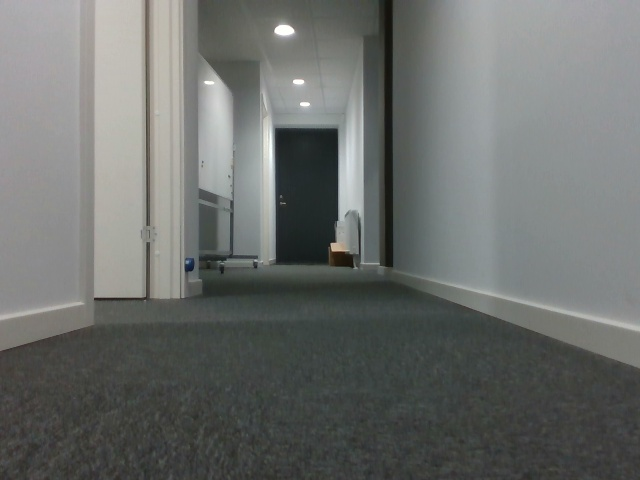alfa: (183, 254, 195, 274)
